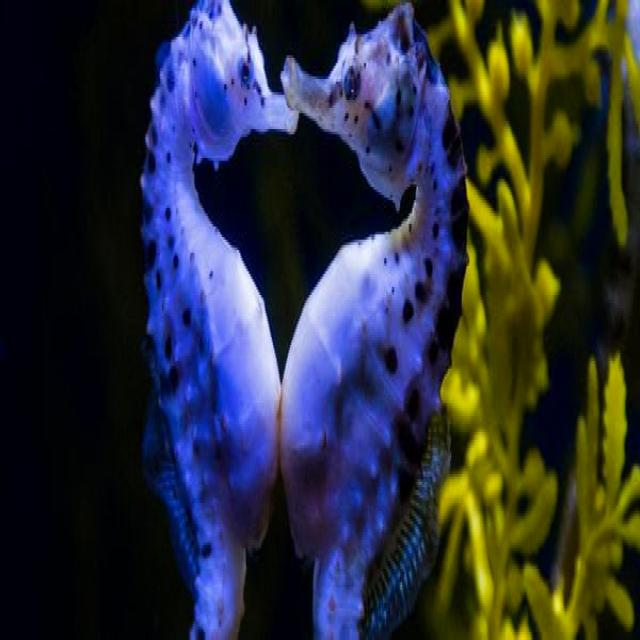seahorse: (282, 3, 467, 637), (142, 0, 298, 637)
